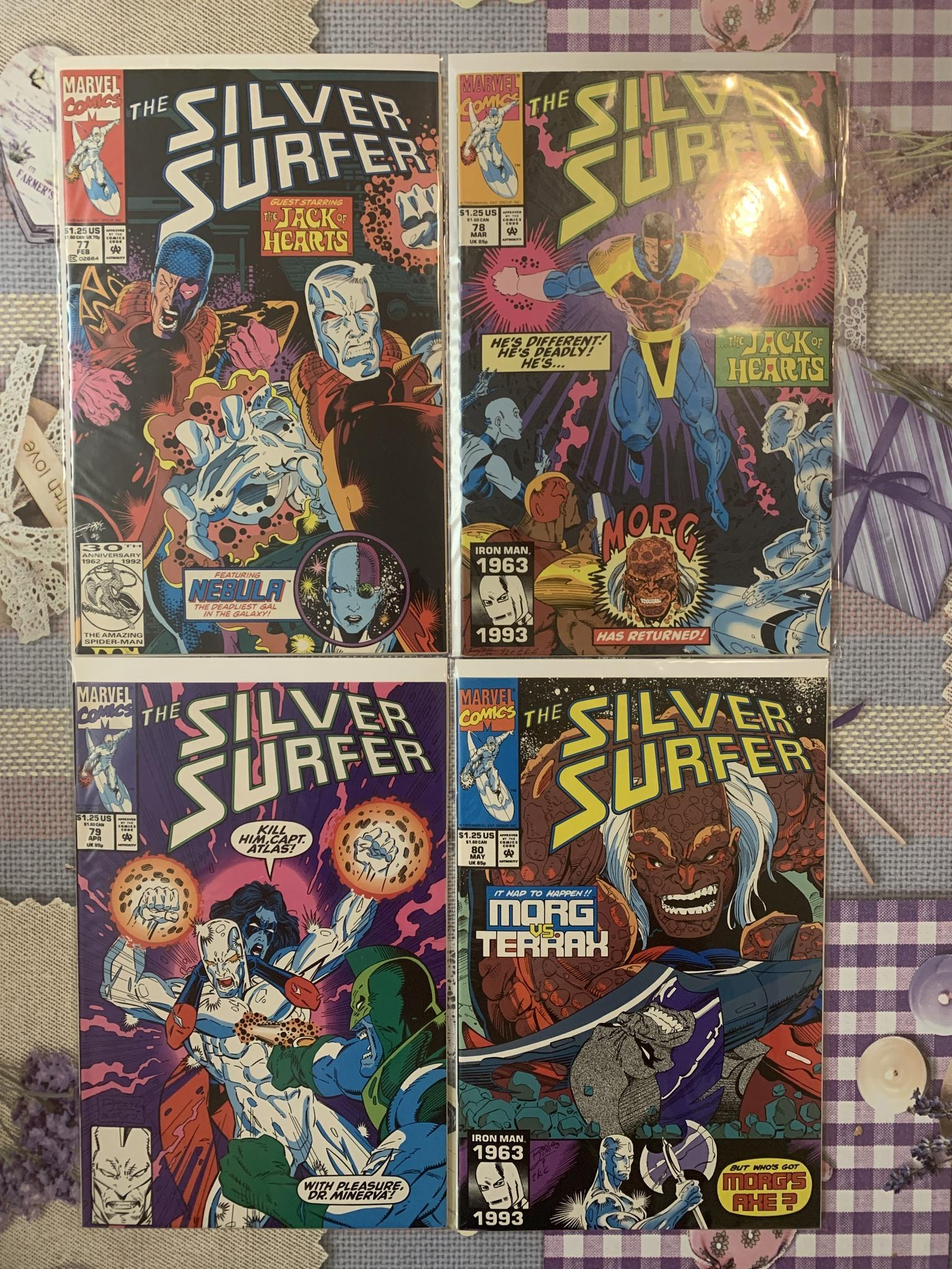comic: (54, 55, 446, 657), (449, 55, 837, 656), (453, 658, 826, 1247), (74, 658, 449, 1230)
